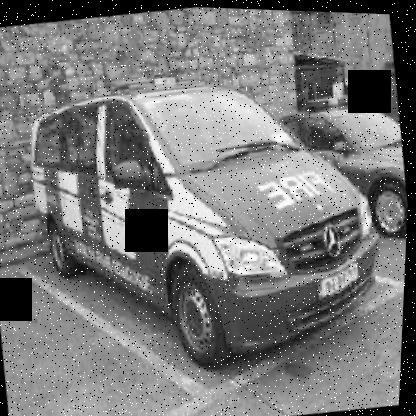emergency: (10, 35, 405, 397), (269, 80, 412, 258)
